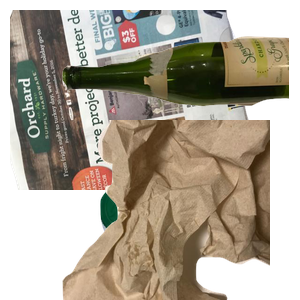glass: (60, 34, 300, 133)
paper: (10, 10, 250, 190)
plastic: (98, 176, 266, 300)
trash: (60, 120, 300, 300)
